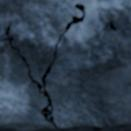brick: (0, 0, 130, 127), (0, 41, 53, 130)
crack: (0, 2, 85, 128)
